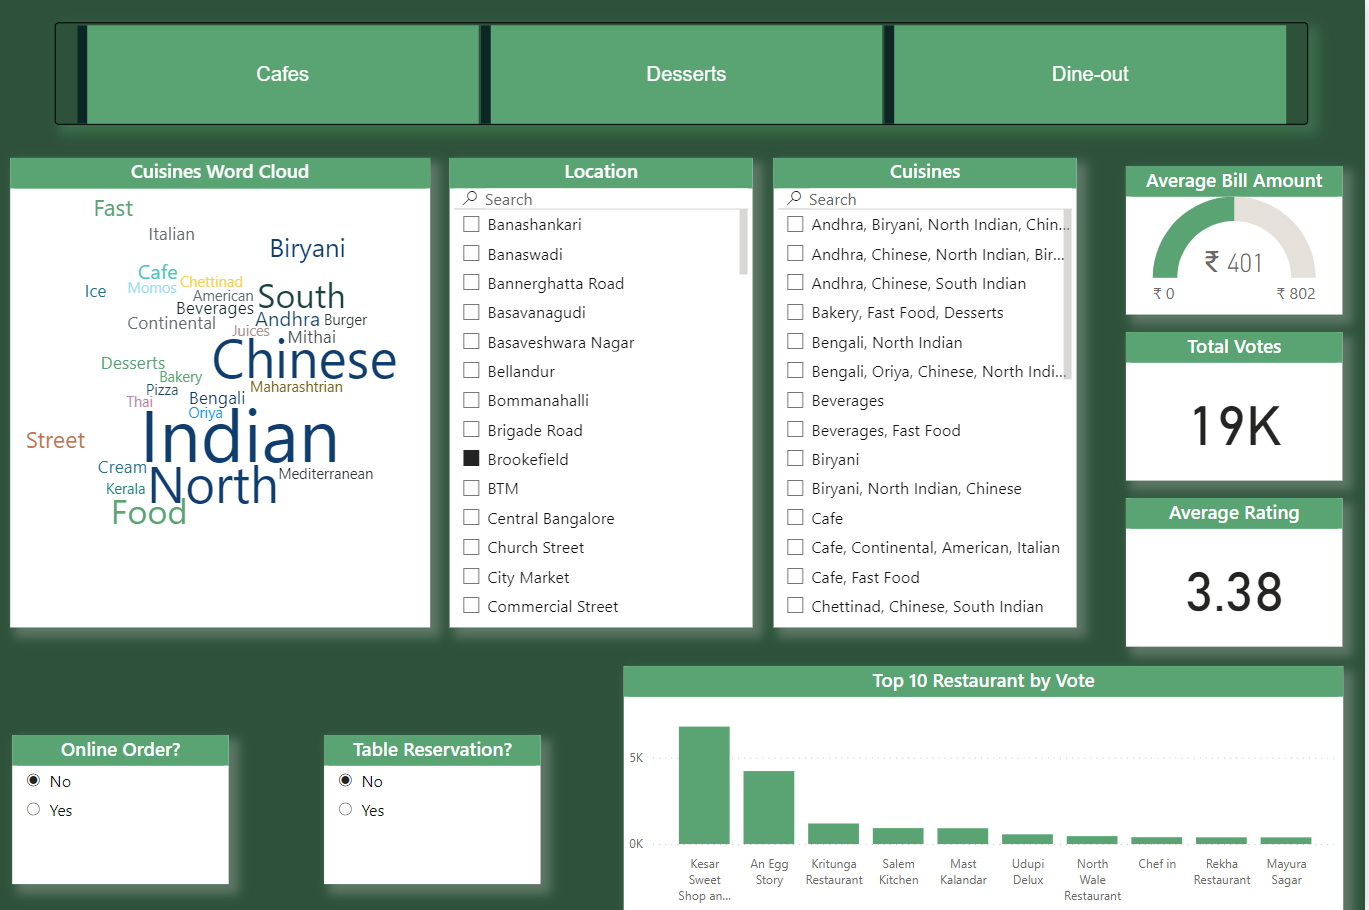

This screenshot's page, from the dashboard's own definition file:
{"tool":"powerbi","page":{"name":"Report","canvas":[1350,900],"ordinal":0},"visuals":[{"type":"gauge","title":"Average Bill Amount","fields":{"Y":["Avg(zomato.approx_cost(for two people))"]},"box":[1113.3,163.7,213.9,146.7],"z":2000},{"type":"card","title":"Total Votes","fields":{"Values":["Sum(zomato.votes)"]},"box":[1113.9,328.7,213.9,146.7],"z":3000},{"type":"card","title":"Average Rating","fields":{"Values":["Avg(zomato.rate)"]},"box":[1114.6,491.2,213.9,146.7],"z":4000},{"type":"columnChart","title":"Top 10 Restaurant by Vote","fields":{"Category":["zomato.name"],"Y":["Sum(zomato.votes)"]},"box":[617.2,657.3,710.8,242.7],"z":5000},{"type":"slicer","title":"Table Reservation?","fields":{"Values":["zomato.book_table"]},"box":[321,726.1,214,147],"z":6000},{"type":"slicer","title":"Online Order?","fields":{"Values":["zomato.online_order"]},"box":[13.4,726.1,214,147.1],"z":7000},{"type":"slicer","title":"Cuisines","fields":{"Values":["zomato.cuisines"]},"box":[765.3,156.1,299.3,463.9],"z":8000},{"type":"slicer","title":"Location","fields":{"Values":["zomato.location"]},"box":[446.8,156.1,299.3,463.9],"z":9000},{"type":"WordCloud1447959067750","title":"Cuisines Word Cloud","fields":{"Category":["zomato.cuisines"]},"box":[12.8,156.1,414.7,463.9],"z":10000},{"type":"slicer","title":"Restaurant Type","fields":{"Values":["zomato.listed_in(type)"]},"box":[55.9,21,1238.2,101.3],"z":10500}]}

Visuals, with their boxes in screenshot pixels (x1, y1, x2, y2), scaled from the page's 1350x900 canvas onto the 1369x910 screenshot:
"Average Bill Amount" gauge: (1129, 166, 1346, 314)
"Total Votes" card: (1130, 332, 1346, 481)
"Average Rating" card: (1130, 497, 1347, 645)
"Top 10 Restaurant by Vote" columnChart: (626, 665, 1347, 909)
"Table Reservation?" slicer: (326, 734, 543, 883)
"Online Order?" slicer: (14, 734, 231, 883)
"Cuisines" slicer: (776, 158, 1080, 627)
"Location" slicer: (453, 158, 757, 627)
"Cuisines Word Cloud" WordCloud1447959067750: (13, 158, 434, 627)
"Restaurant Type" slicer: (57, 21, 1312, 124)
